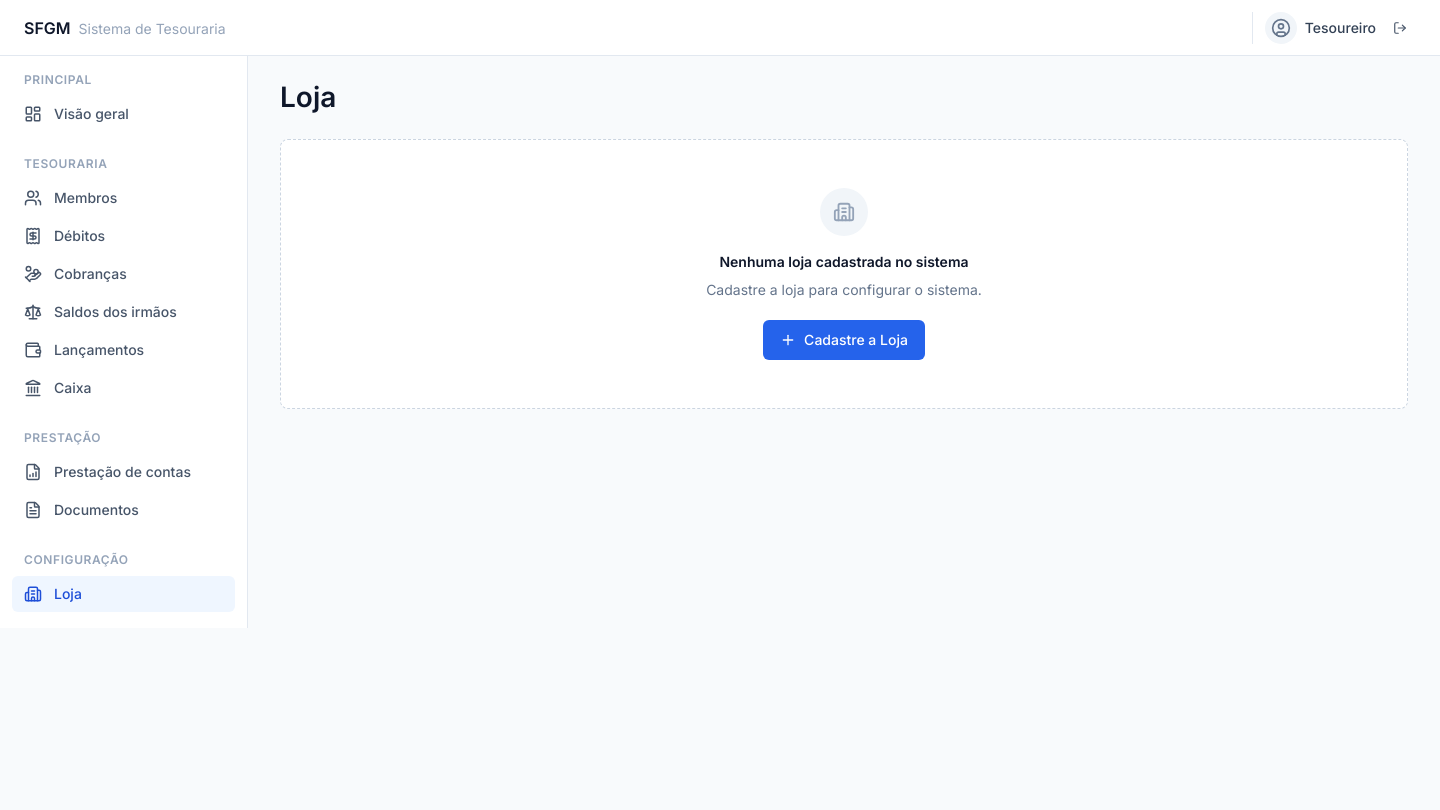
Test: Cadastro da Loja (CriarLojaModal) › cadastra a loja e atualiza Header e tela sem recarregar
The image size is (1440, 810).
Click the button "Cadastre a Loja" at [844, 340], box [763,320,925,360]
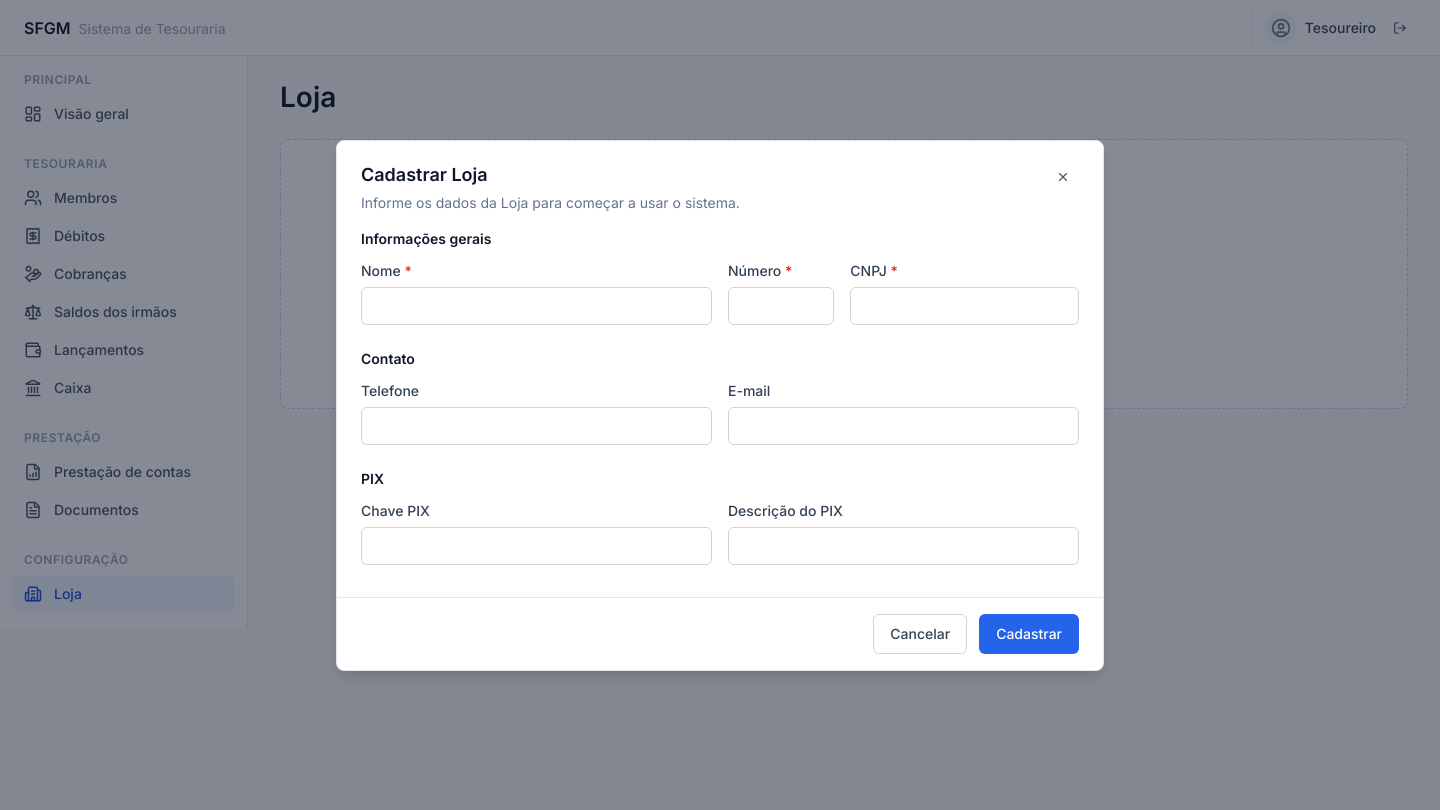
Expected: the field labelled "URL do logo" is not shown
Type "Loja Nova" into the field labelled "Nome *" at [536, 306], box [361,286,712,324]
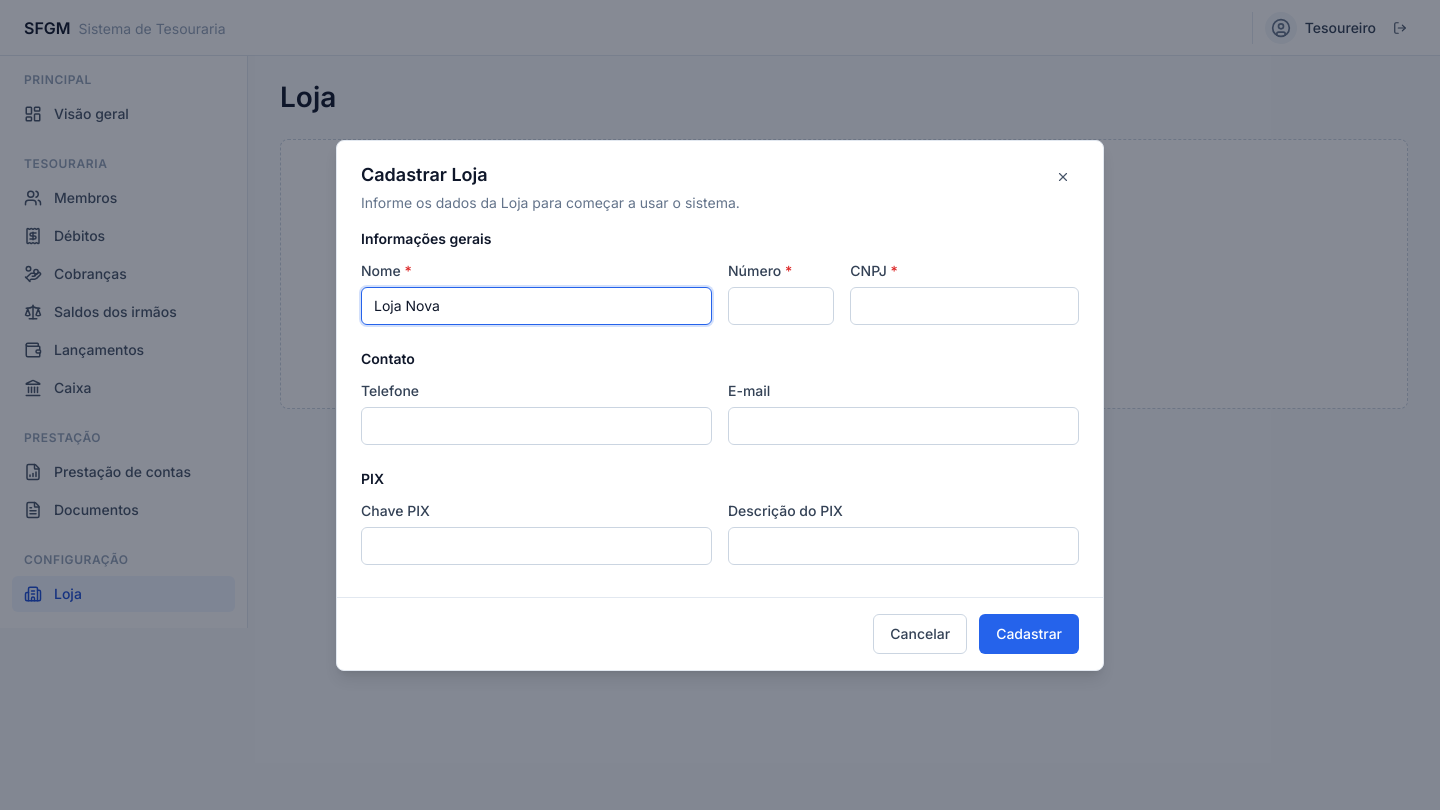
Type "42" into the field labelled "Número *" at [781, 306], box [728,286,834,324]
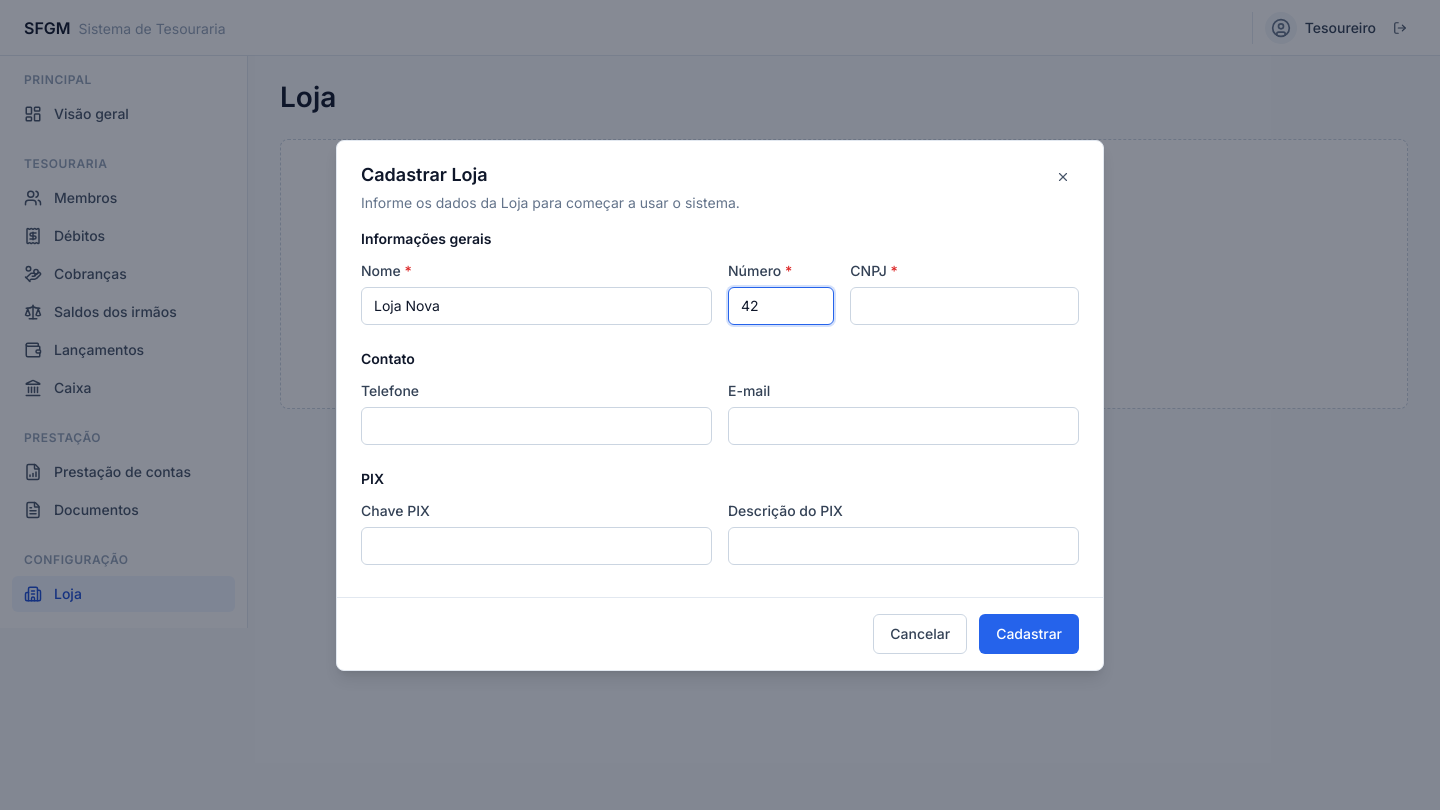
Type "11.111.111/0001-11" into the field labelled "CNPJ *" at [965, 306], box [850,286,1079,324]
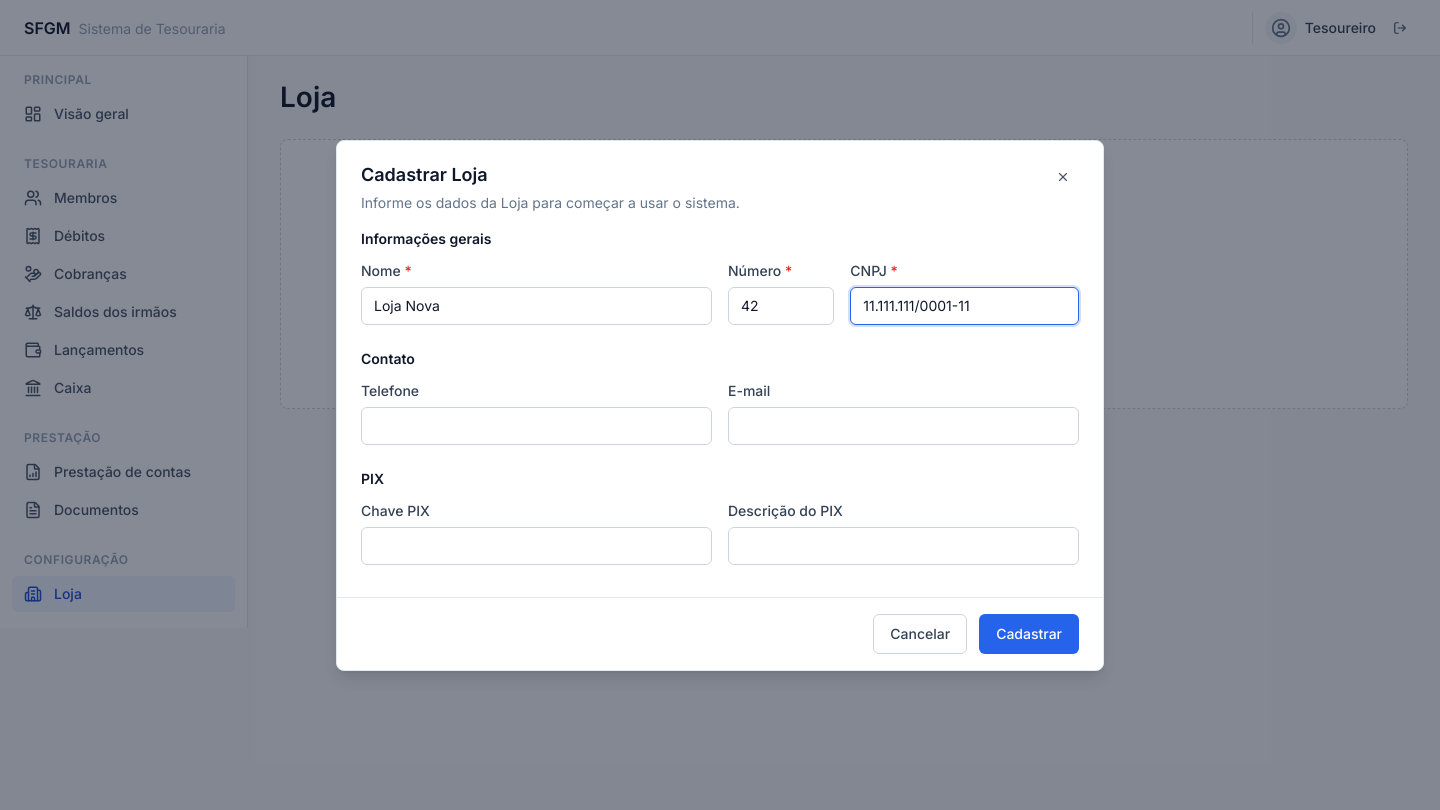
Click the button "Cadastrar" at [1029, 634], box [979,614,1079,654]
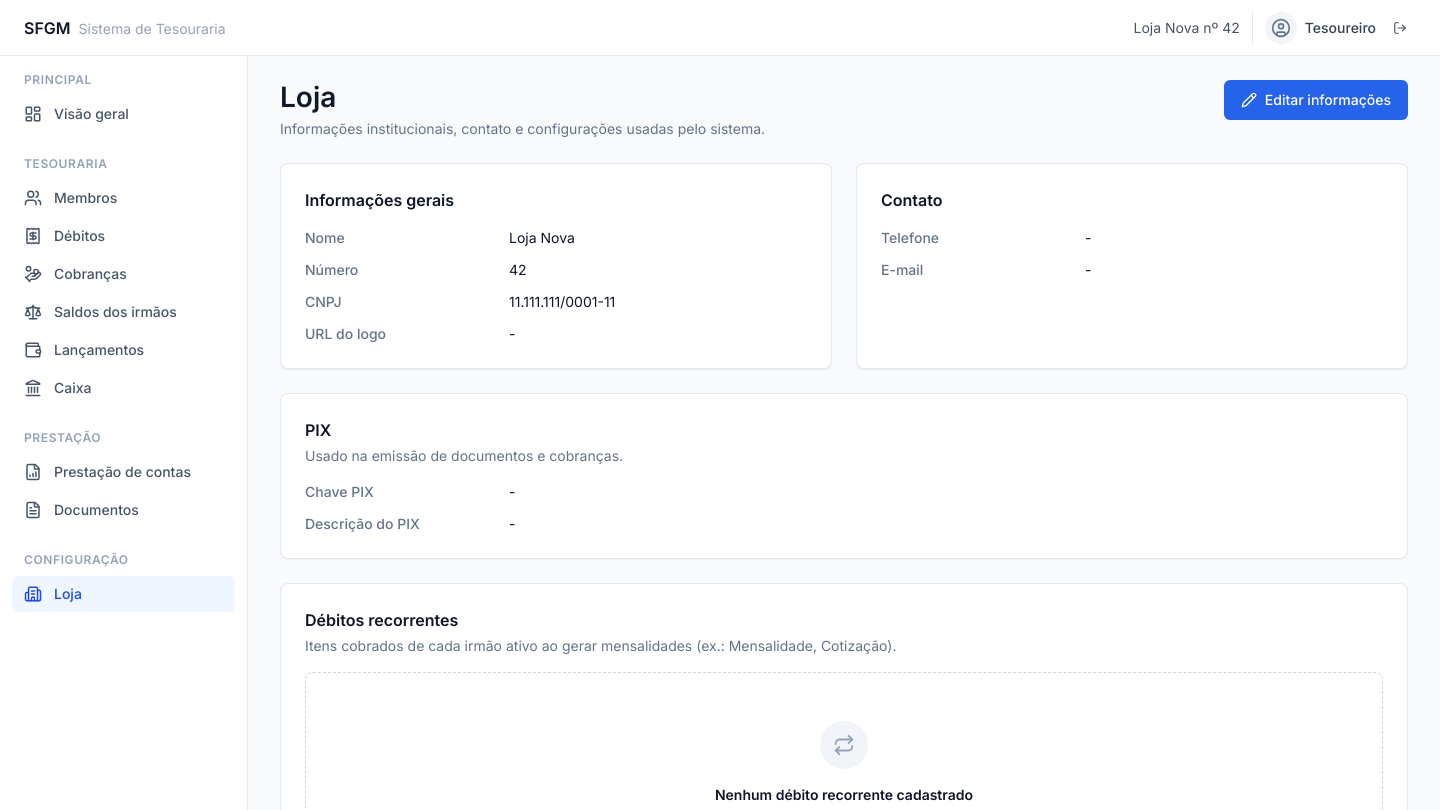
Expected: the text "Loja Nova nº 42" is shown, [1134,18,1240,38]
Expected: the dialog is gone
Expected: the text "Nenhuma loja cadastrada no sistema" is gone
